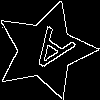A: (20, 25, 77, 82)
